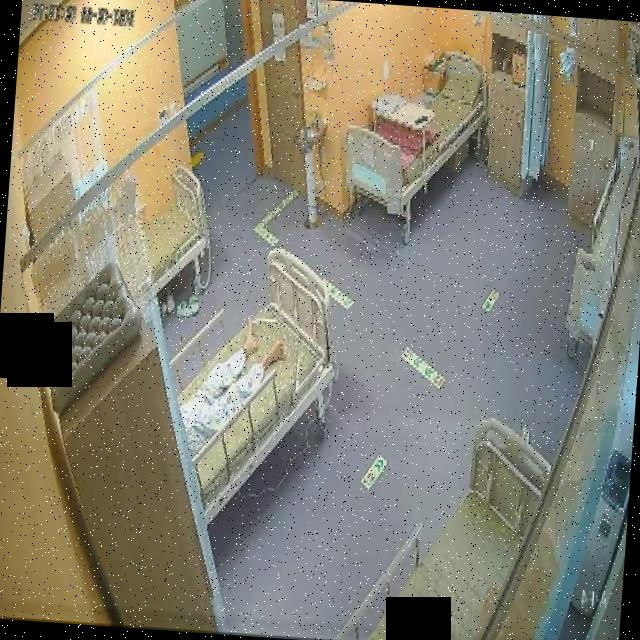bed: (334, 405, 554, 640), (168, 244, 341, 526), (342, 47, 489, 219), (140, 165, 214, 298)
lie: (176, 305, 287, 464)
patient: (177, 304, 287, 465)
